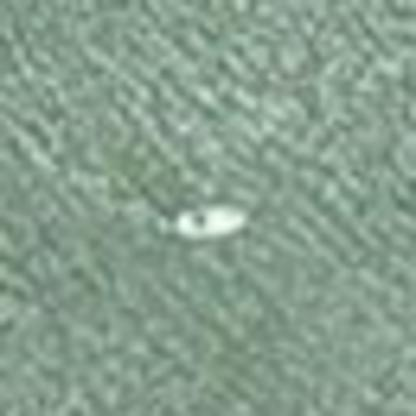ship: (141, 196, 256, 246)
